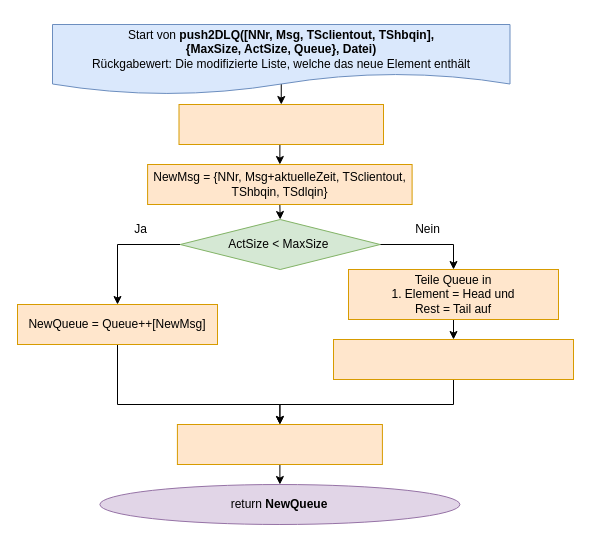
This 591x542 diagram has some shape labels left out. The centre of each missing label's shape, as x and y in pixels:
"NewQueue = Tail++[NewMsg]" goes at point 453,359.
"schreibe in logging Datei" goes at point 279,444.
"TSdlqin = erlang:timestamp()" goes at point 281,124.
